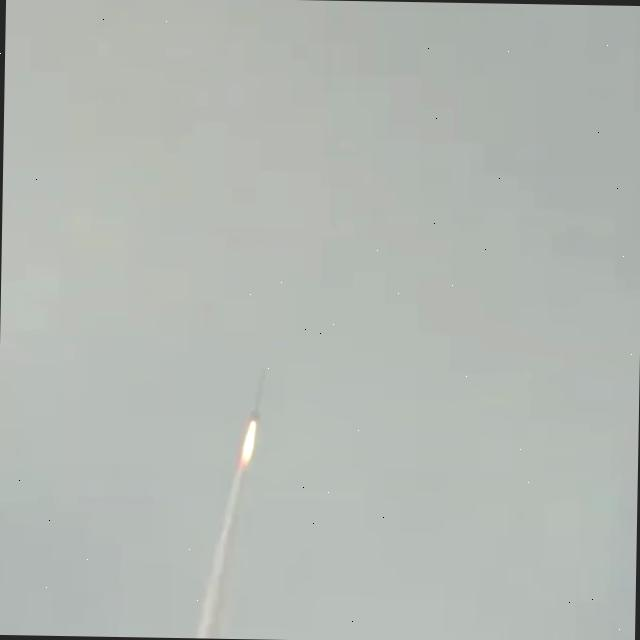smoke_trail_with_rocket: (192, 370, 266, 638)
